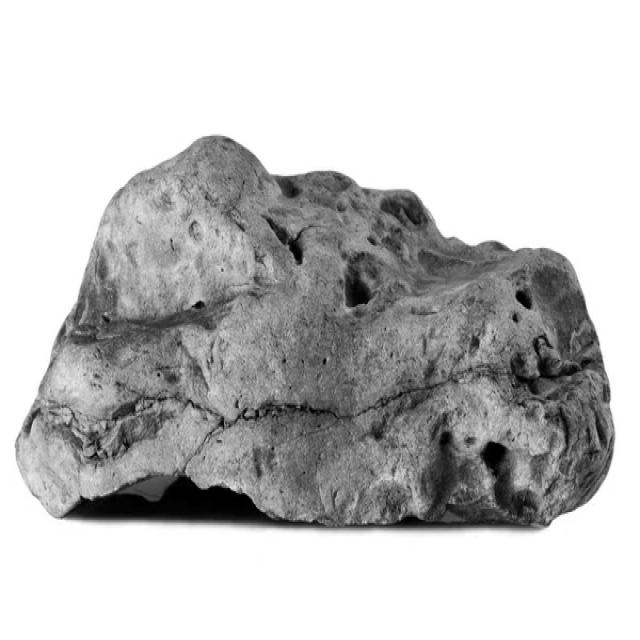Stone: (16, 136, 615, 526)
